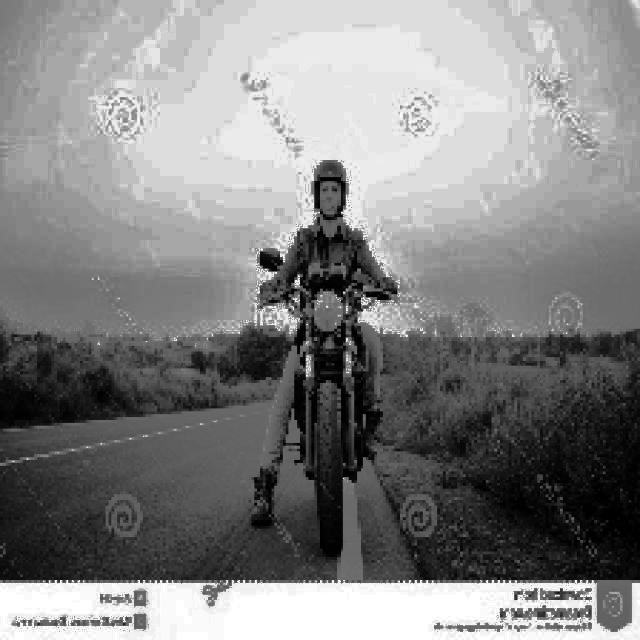Bike: (290, 268, 376, 536)
